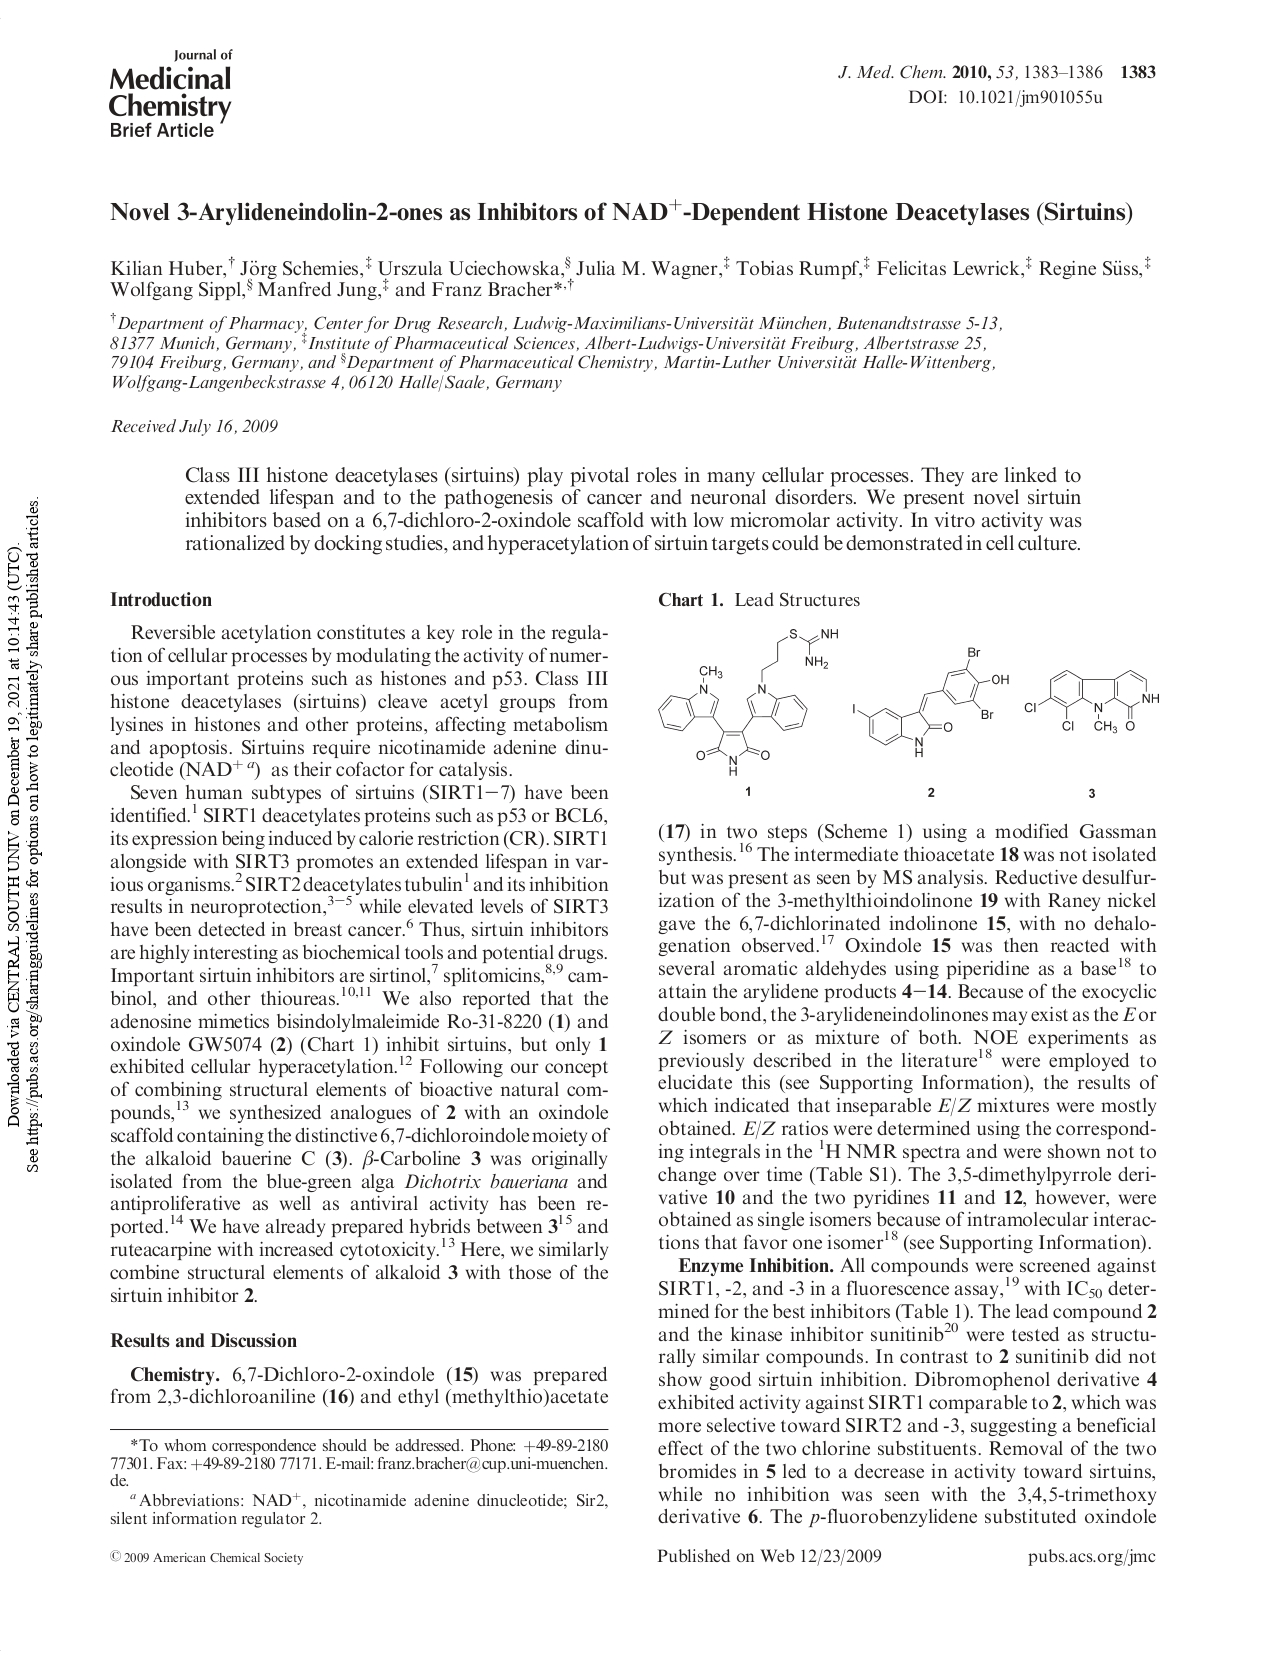exist_molecular: (653, 622, 840, 781), (850, 645, 1012, 759), (1023, 668, 1164, 733)
